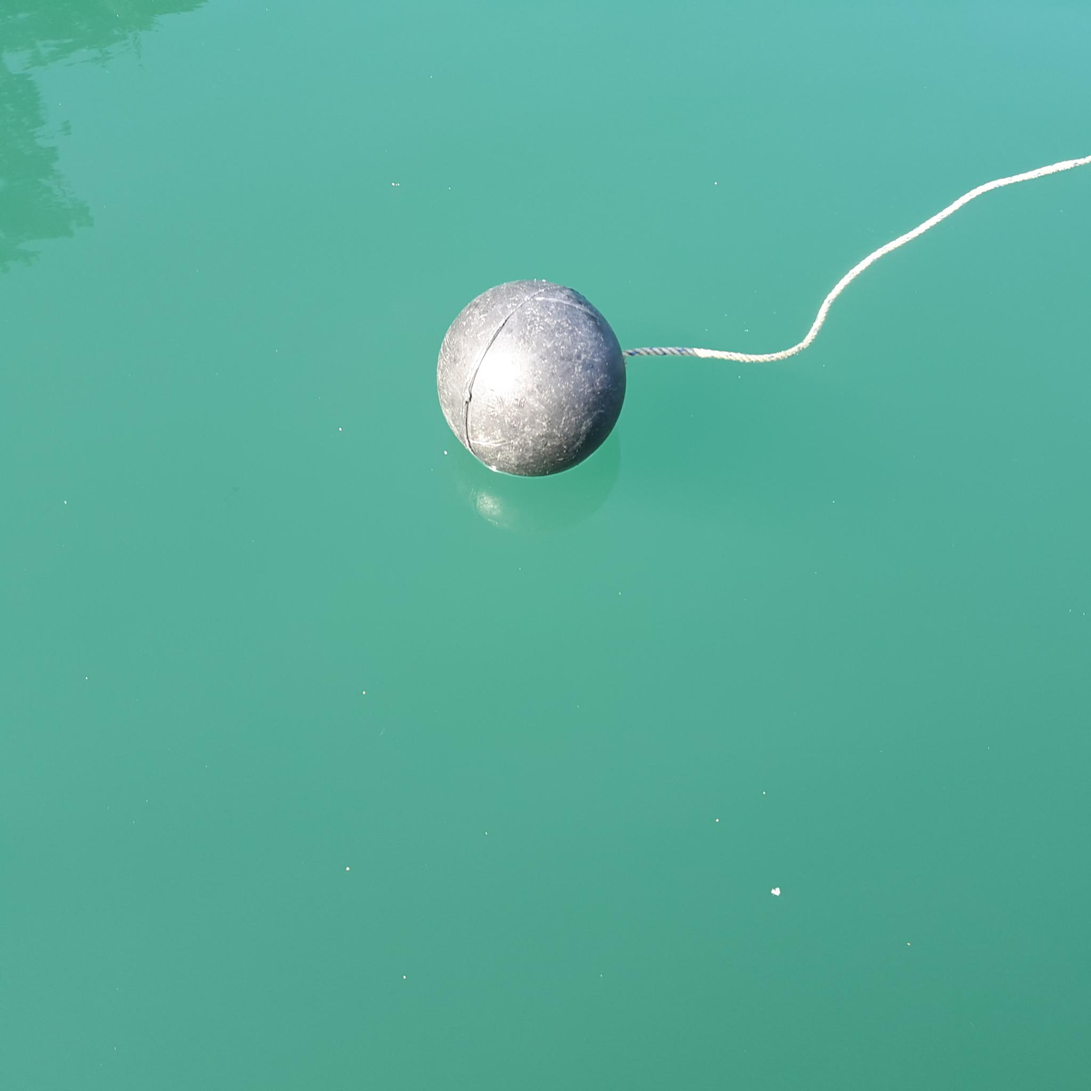sampah_terapung: (622, 154, 1091, 363), (436, 279, 627, 477)
